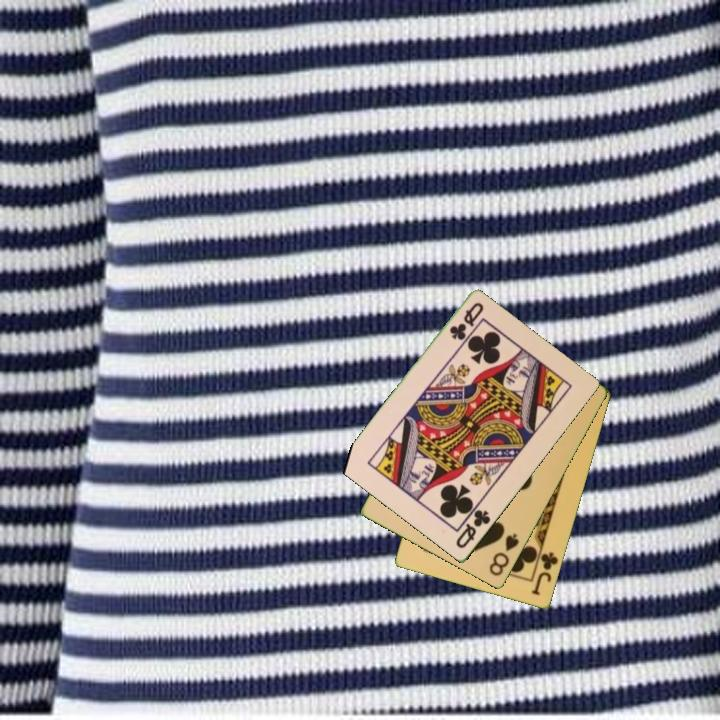8s: (485, 530, 522, 579)
Jc: (528, 544, 561, 599)
Qc: (452, 506, 494, 552), (446, 299, 487, 344)
